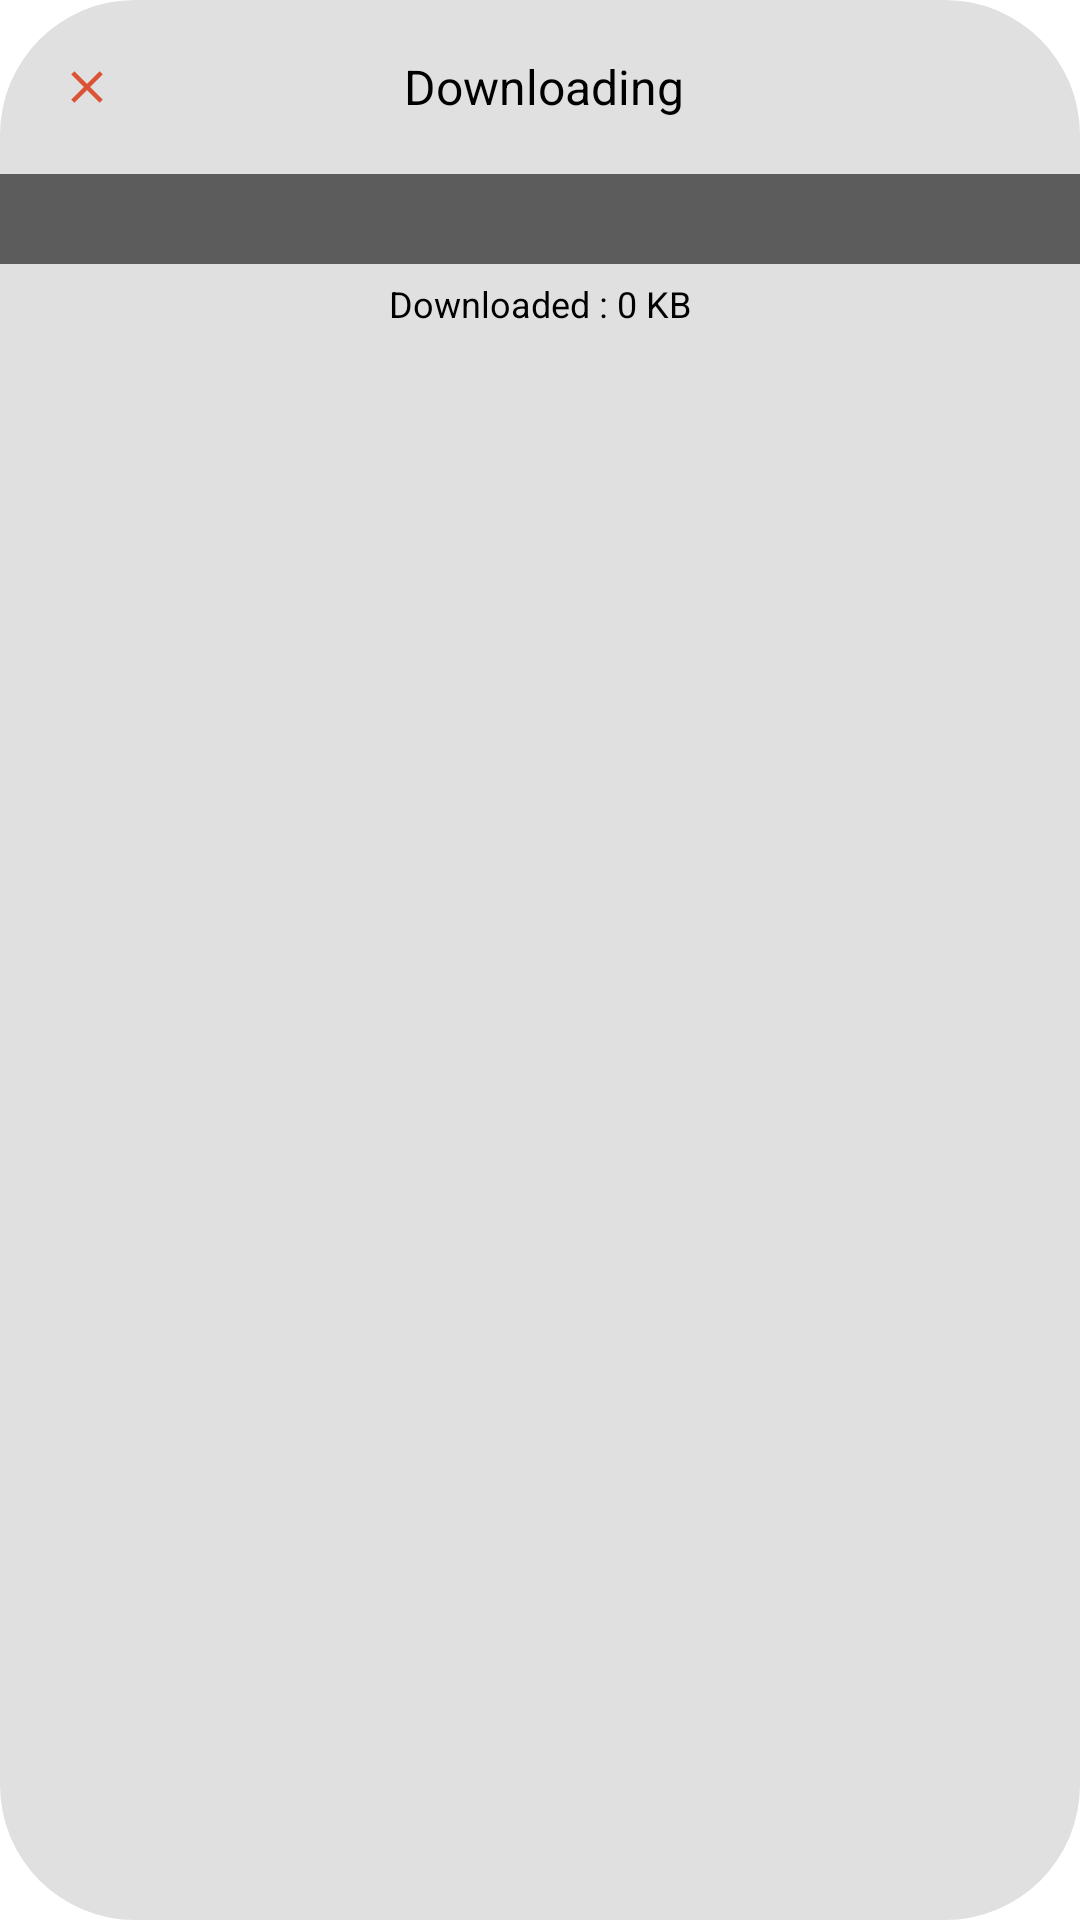

Icon click points for this 1080w x 1920h phone screenshot, format [x,y]:
close warm: [87,87]
